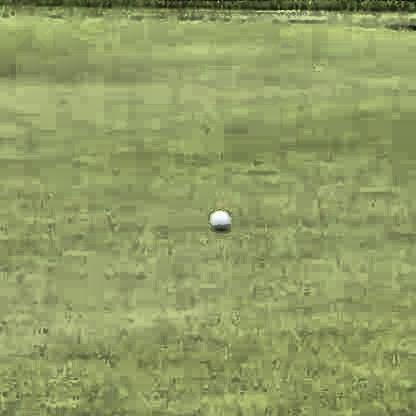golfball: (205, 205, 228, 229)
